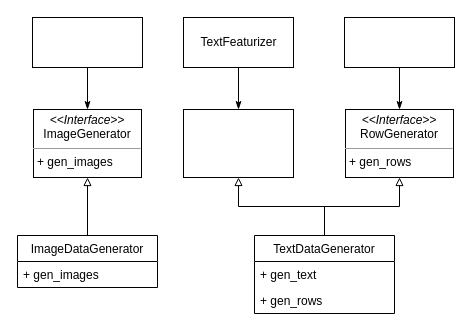
Image size: 472x334. Some labels were removed from this diagram. Here are the shapes that lost their labels. From the top down, the box of each, then its label:
(32, 16, 142, 68): ImageFeaturizer
(344, 16, 454, 68): RowFeaturizer
(182, 108, 294, 178): <<Interface>> TextGenerator + gen_text
